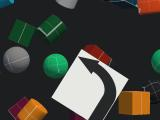Left: (52, 49, 128, 120)
